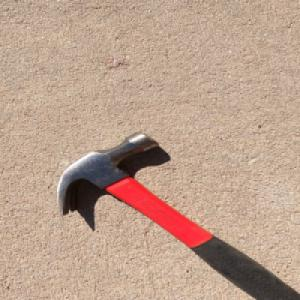Hammer: (55, 129, 300, 300)
